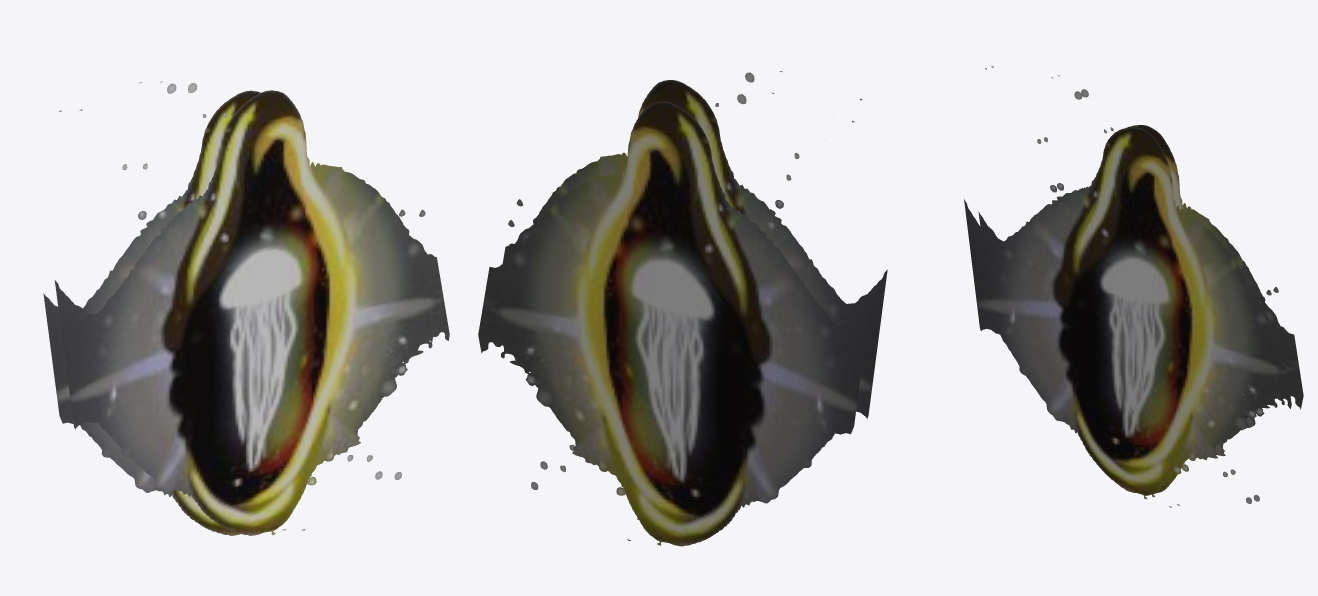
File: SM_JellyfishStone.fbx
3 renders of one model, left to right at view 1: azimuth 30°, elevation 25°; view 2: azimuth 150°, elevation 25°; view 3: azimuth 330°, elevation 25°, orthographic. The views are drawn at different scales.
Parts seen in each view (by area): view 1: SM_JellyfishStone; view 2: SM_JellyfishStone; view 3: SM_JellyfishStone.
Boxes of the visible parts, box(x1,y1,x2,y2) form: SM_JellyfishStone: box(43, 81, 449, 535); SM_JellyfishStone: box(478, 71, 887, 546); SM_JellyfishStone: box(964, 66, 1303, 507).
Bounding box in the file's own units: 0.6682 × 0.8819 × 0.0395.
